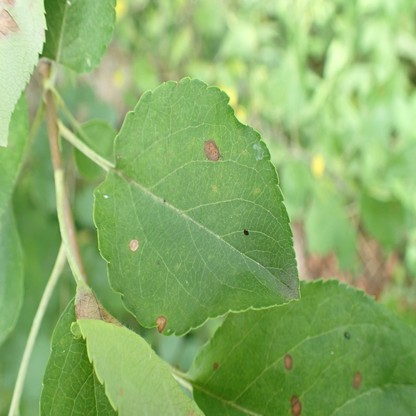frogeye_leaf_spot: (204, 139, 221, 160), (290, 395, 301, 414), (156, 316, 167, 333), (353, 371, 362, 390), (283, 353, 293, 369), (129, 238, 139, 251), (213, 362, 217, 370)
